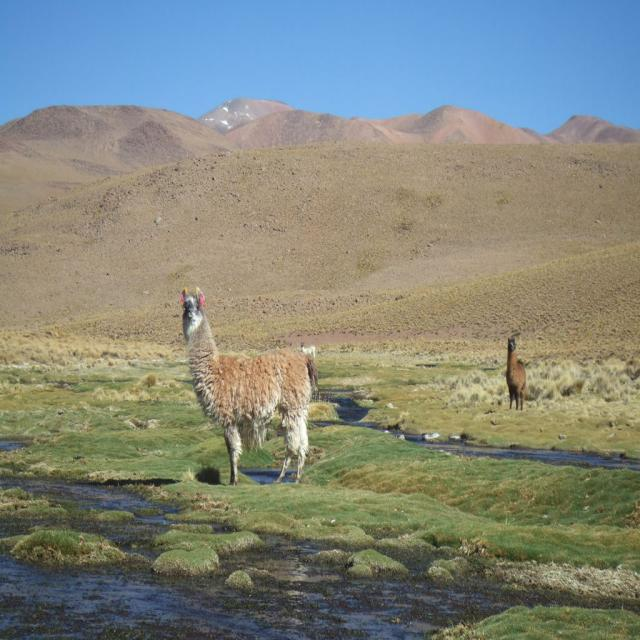alpaca: (181, 287, 314, 483), (504, 333, 530, 408)
